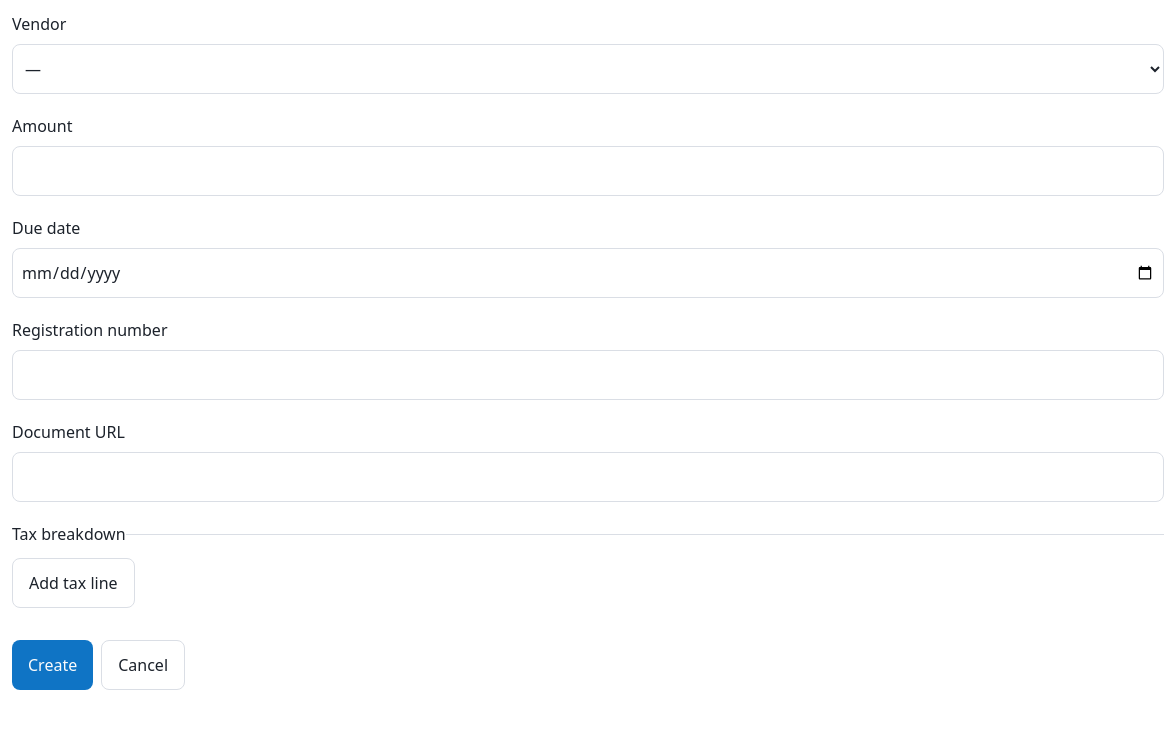
Test: InvoiceForm › shows validation errors and does not submit when empty
The width and height of the screenshot is (1176, 732).
What coordinates should you click on to do the following:
click the button "Create"
I would click on:
 (53, 665)
Its box is [12,640,93,690].
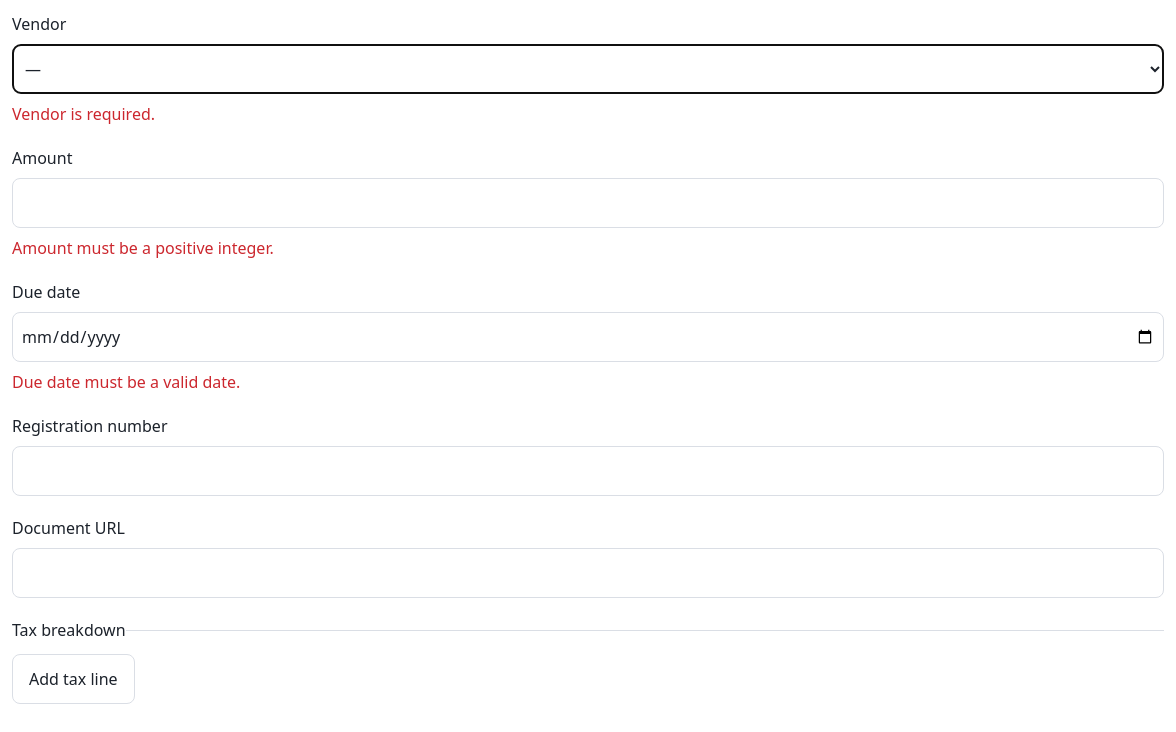
Expected: the text "Vendor is required." is shown, [12,103,155,125]
Expected: the text "Amount must be a positive integer." is shown, [12,237,274,259]
